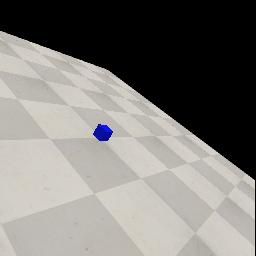box: (93, 124, 113, 141)
